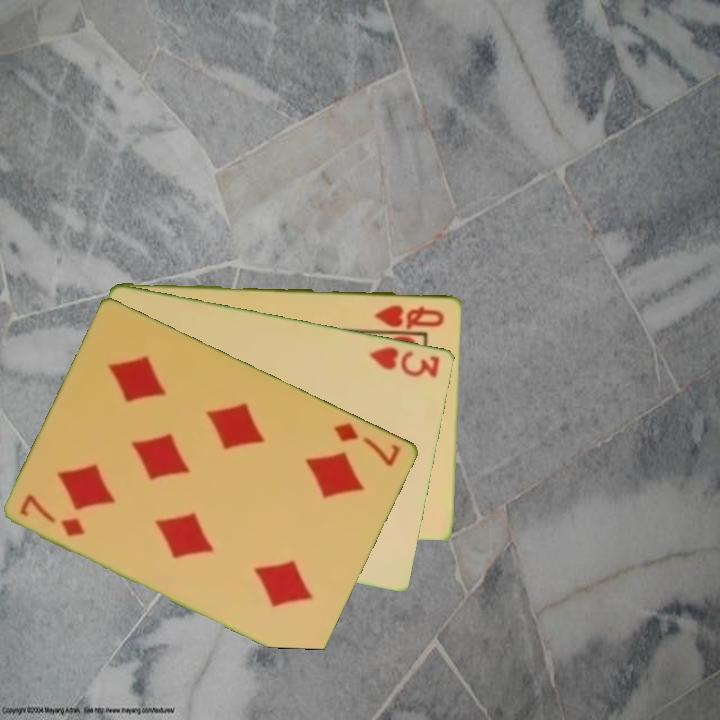3h: (366, 343, 443, 380)
7d: (330, 418, 404, 469), (16, 490, 89, 540)
Qh: (371, 301, 448, 330)
